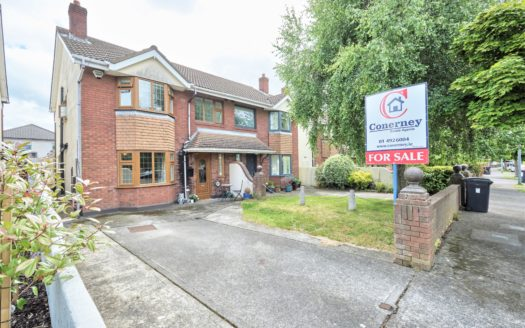property sign: (360, 77, 443, 176)
